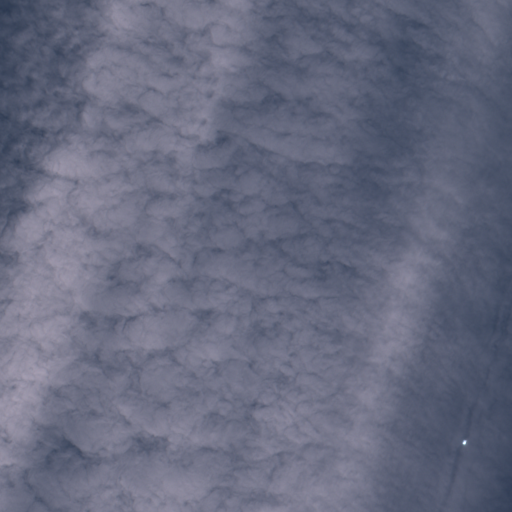Iceberg: (462, 440, 466, 444)
